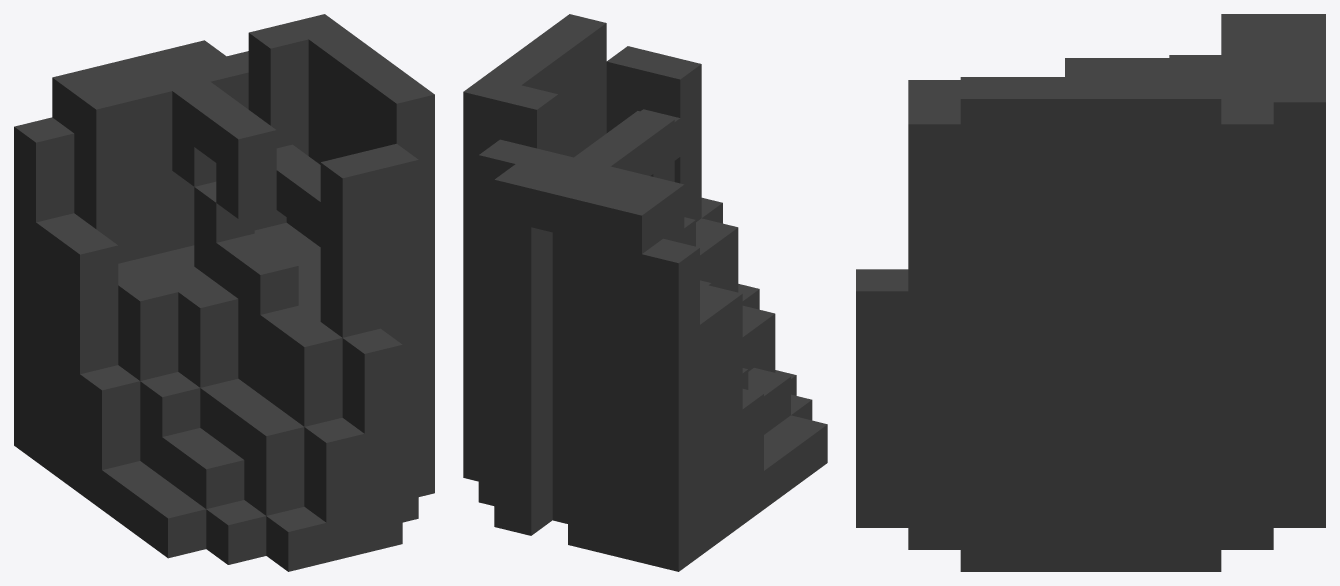
The model's file is cristais-6.obj.
3 renders of one model, left to right at view 1: azimuth 30°, elevation 25°; view 2: azimuth 150°, elevation 25°; view 3: azimuth 270°, elevation 25°, orthographic. The views are drawn at different scales.
Bounding box in the file's own units: 0.7 × 1 × 0.9.
Materials: 1 (1 with a texture image).
